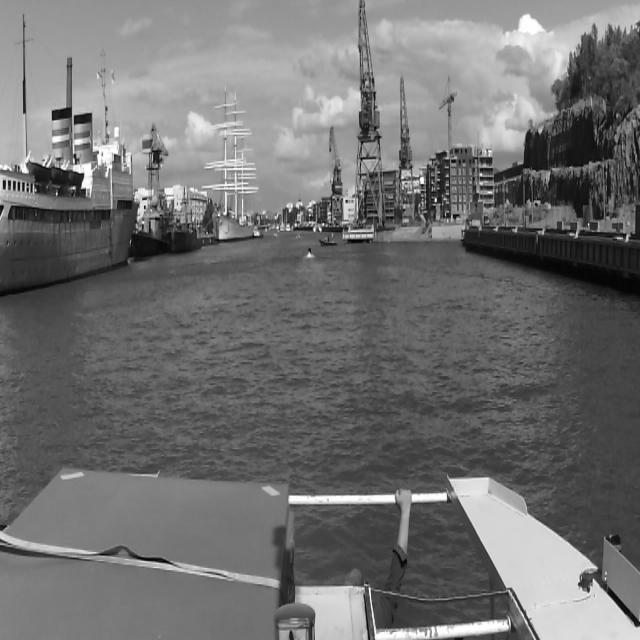ship: (0, 10, 139, 302), (204, 87, 260, 246), (125, 180, 170, 265), (170, 189, 202, 257), (318, 233, 338, 248), (312, 204, 320, 236), (304, 244, 314, 260), (252, 229, 264, 240), (280, 208, 285, 232), (285, 223, 291, 234), (296, 233, 302, 240), (272, 233, 278, 239)
